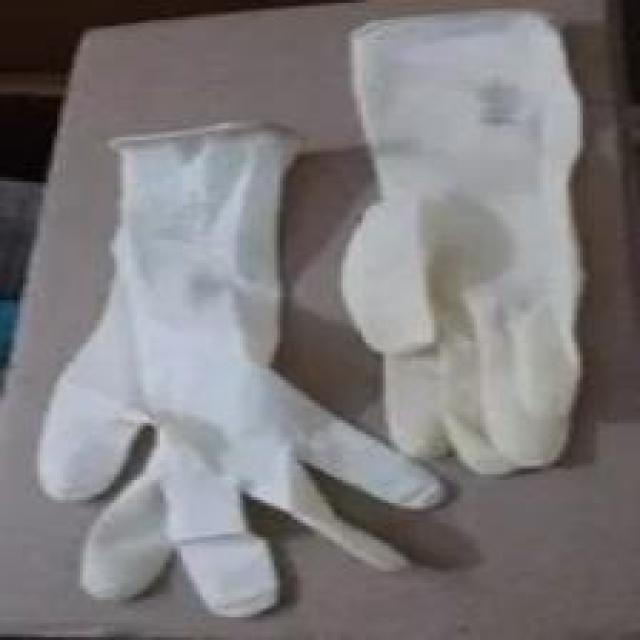Glove: (25, 2, 632, 604)
